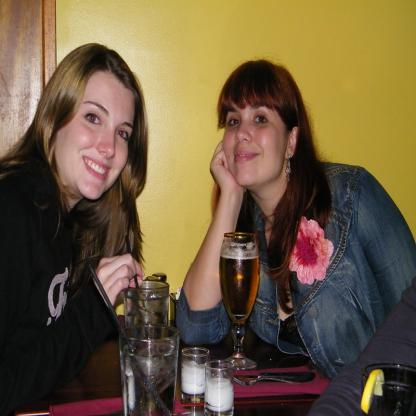drinking: (219, 232, 260, 370)
